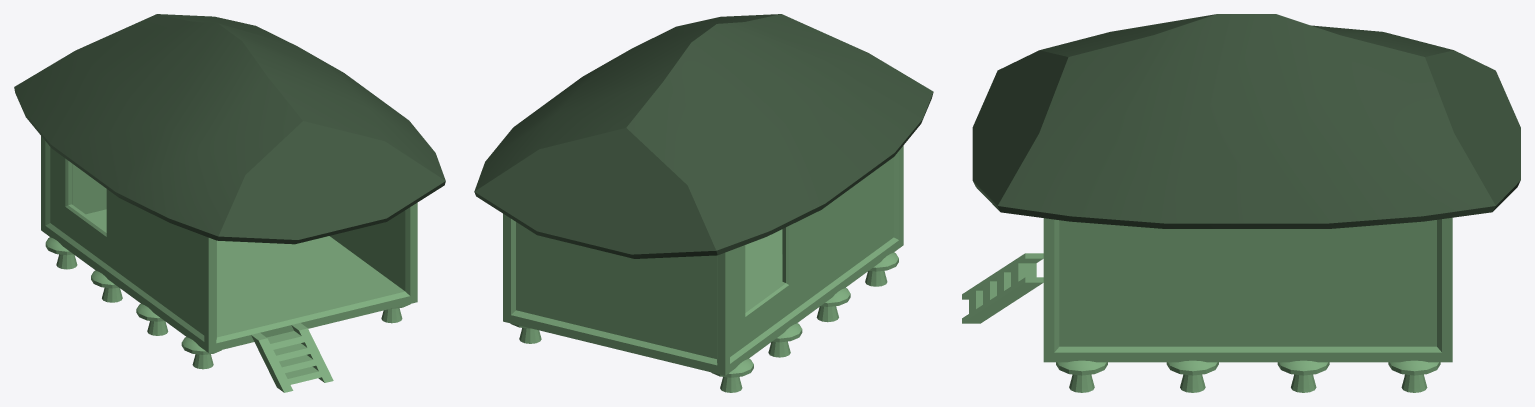
The model's file is Speiker.fbx.
3 renders of one model, left to right at view 1: azimuth 30°, elevation 25°; view 2: azimuth 150°, elevation 25°; view 3: azimuth 270°, elevation 25°, orthographic. The views are drawn at different scales.
Visible parts, largest first — view 1: roof, Speiker_base1, steps, Stone_stool, Stone_stool1, Stone_stool3, Stone_stool2; view 2: roof, Speiker_base1, Stone_stool3, Stone_stool2, Stone_stool, Stone_stool1; view 3: roof, Speiker_base1, steps, Stone_stool, Stone_stool2, Stone_stool3, Stone_stool1.
Part boxes in pixels (x1,y1,x2,y2): roof: [14, 14, 445, 244]; Speiker_base1: [41, 136, 417, 352]; steps: [251, 323, 333, 392]; Stone_stool: [181, 337, 221, 369]; Stone_stool1: [136, 304, 168, 335]; Stone_stool3: [45, 237, 77, 269]; Stone_stool2: [91, 270, 122, 302]; roof: [474, 14, 933, 258]; Speiker_base1: [503, 145, 903, 375]; Stone_stool3: [711, 358, 753, 392]; Stone_stool2: [768, 323, 802, 357]; Stone_stool: [865, 252, 898, 286]; Stone_stool1: [816, 288, 850, 322]; roof: [972, 14, 1520, 228]; Speiker_base1: [1043, 217, 1452, 362]; steps: [962, 253, 1043, 323]; Stone_stool: [1056, 360, 1107, 392]; Stone_stool2: [1277, 360, 1329, 392]; Stone_stool3: [1388, 360, 1440, 392]; Stone_stool1: [1166, 360, 1218, 392].
Size of the model in its own units: 7.46 by 6.32 by 10.09.
